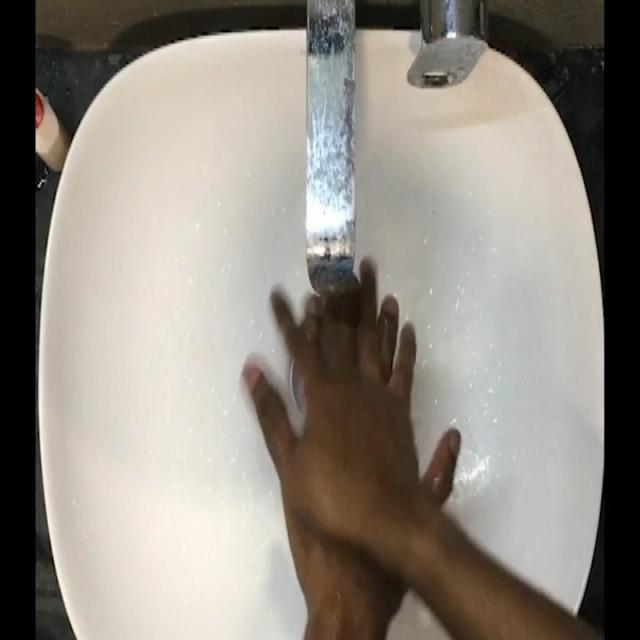step_2: (239, 237, 465, 555)
